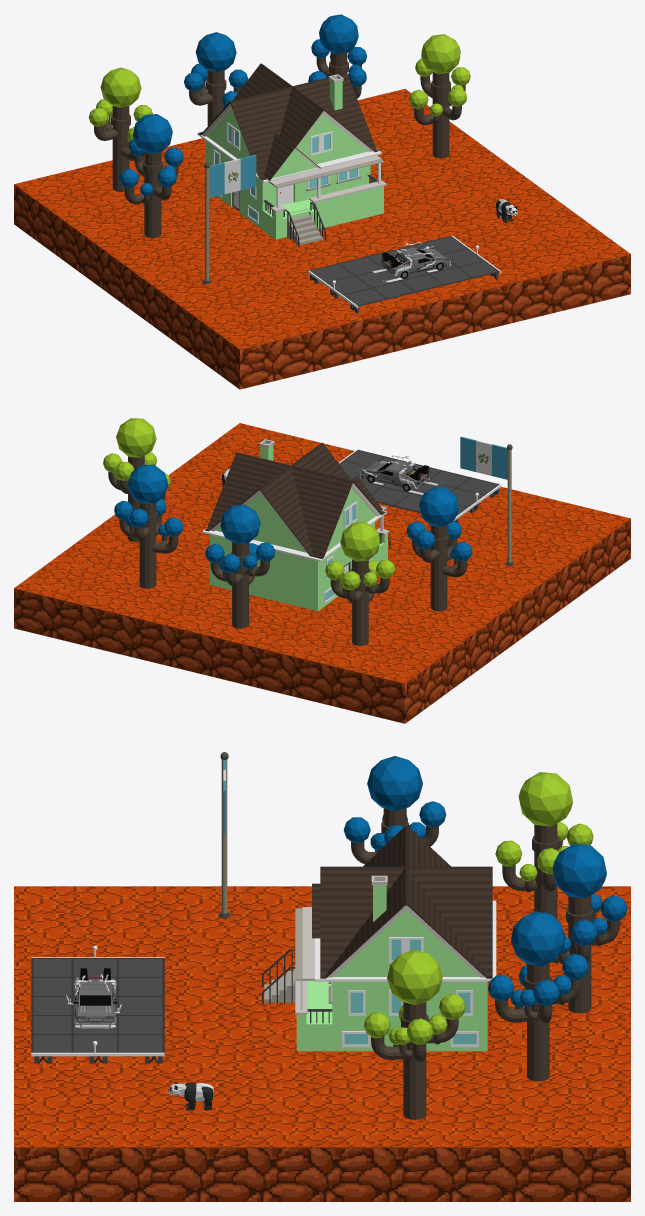
3 views of the same model, one above another, from view 1: azimuth 30°, elevation 25°; view 2: azimuth 150°, elevation 25°; view 3: azimuth 270°, elevation 25° (orthographic). The views are drawn at different scales.
Parts seen in each view (by area): view 1: Cube.001, Cube.274, OBJRANDOM_GUATEMALAN_FLAG, VEHICLES_DELOREAN; view 2: Cube.001, Cube.274, OBJRANDOM_GUATEMALAN_FLAG, VEHICLES_DELOREAN; view 3: Cube.001, Cube.274, VEHICLES_DELOREAN, OBJRANDOM_GUATEMALAN_FLAG, ANIMAL_PANDA.
Part boxes in pixels (left/top/right/bottom): Cube.001: left=14, top=14, right=630, bottom=389; Cube.274: left=197, top=63, right=386, bottom=246; OBJRANDOM_GUATEMALAN_FLAG: left=202, top=155, right=256, bottom=284; VEHICLES_DELOREAN: left=368, top=242, right=451, bottom=282; Cube.001: left=14, top=418, right=630, bottom=723; Cube.274: left=202, top=439, right=390, bottom=611; OBJRANDOM_GUATEMALAN_FLAG: left=460, top=436, right=514, bottom=565; VEHICLES_DELOREAN: left=360, top=455, right=442, bottom=494; Cube.001: left=14, top=756, right=630, bottom=1201; Cube.274: left=262, top=825, right=496, bottom=1051; VEHICLES_DELOREAN: left=66, top=968, right=121, bottom=1028; OBJRANDOM_GUATEMALAN_FLAG: left=218, top=752, right=230, bottom=918; ANIMAL_PANDA: left=168, top=1081, right=213, bottom=1110.
Bounding box in the file's own units: 4000 × 1614 × 4000.
Materials: 38 (5 with a texture image).
